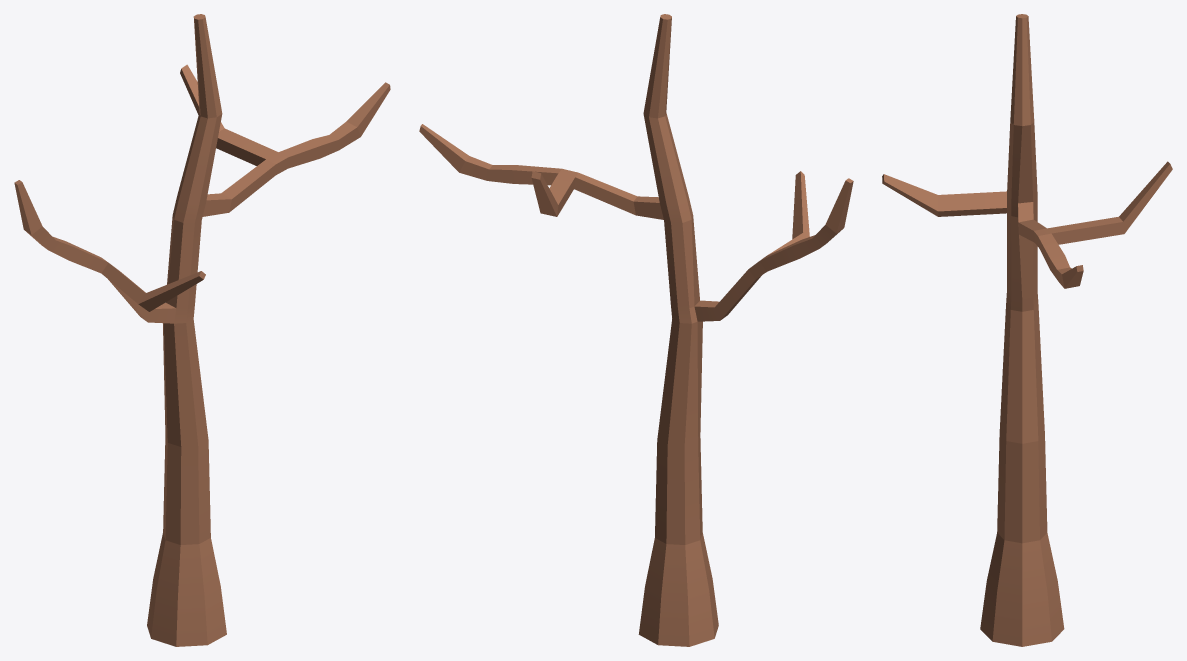
Rendered from naked_tree_1.fbx.
3 renders of one model, left to right at view 1: azimuth 30°, elevation 25°; view 2: azimuth 150°, elevation 25°; view 3: azimuth 270°, elevation 25°, orthographic.
Visible parts, largest first — view 1: naked_tree_1; view 2: naked_tree_1; view 3: naked_tree_1.
Part boxes in pixels (x1,y1,x2,y2): naked_tree_1: [14, 14, 390, 646]; naked_tree_1: [419, 14, 853, 646]; naked_tree_1: [882, 14, 1172, 646].
Bounding box in the file's own units: 414 × 599 × 255.
